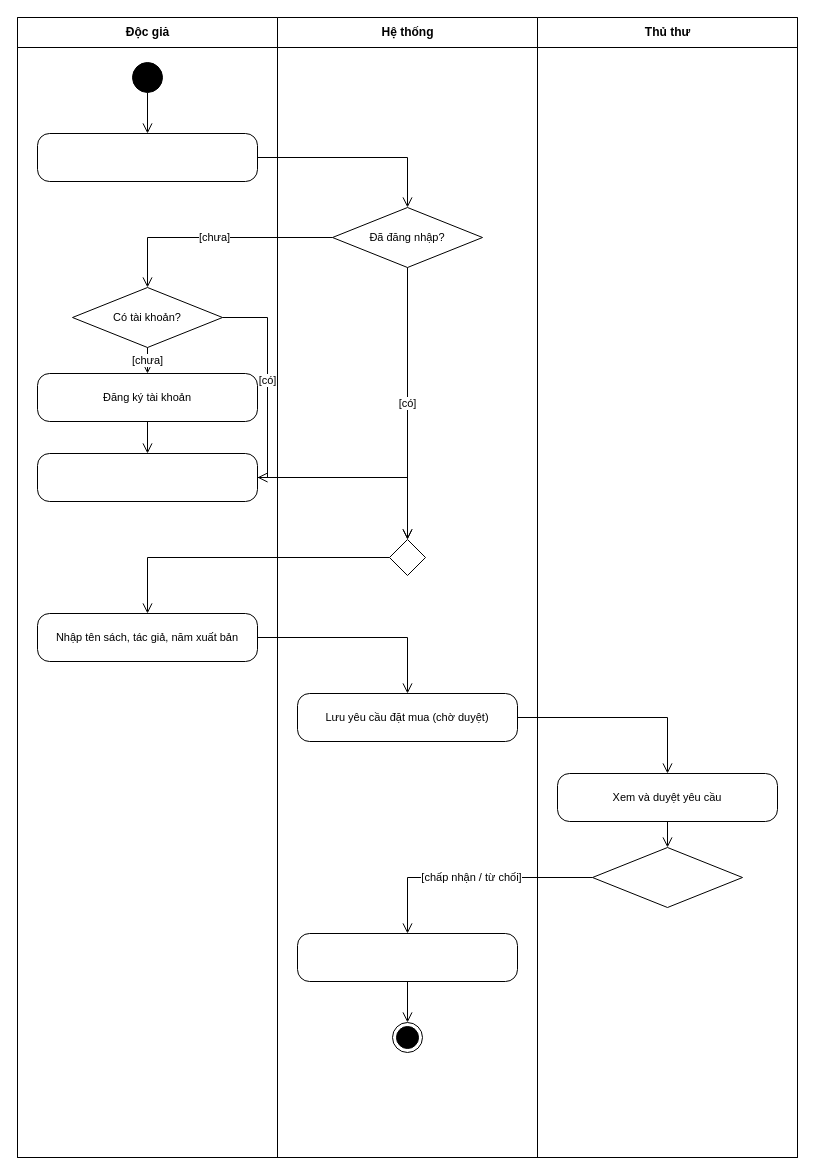
This 815x1175 diagram has some shape labels left out. The centre of each missing label's shape, as x and y in pixels:
Chấp nhận?: (667,877)
Chọn chức năng đặt mua: (147,157)
Cập nhật trạng thái, báo kết quả cho độc giả: (407,957)
Đăng nhập: (147,477)
